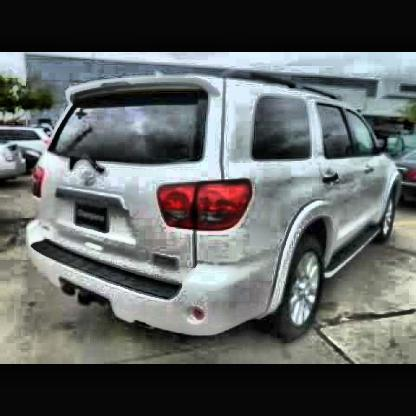Toyota Sequoia SUV 2012: (26, 74, 405, 343)
